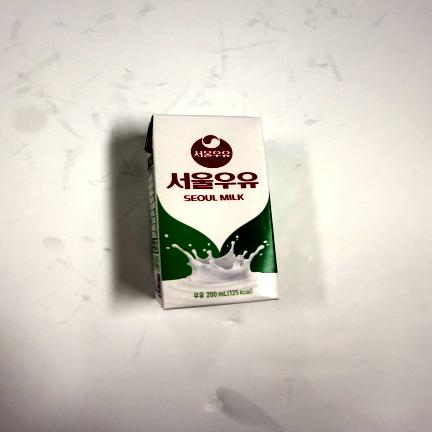milk_green: (146, 115, 279, 310)
